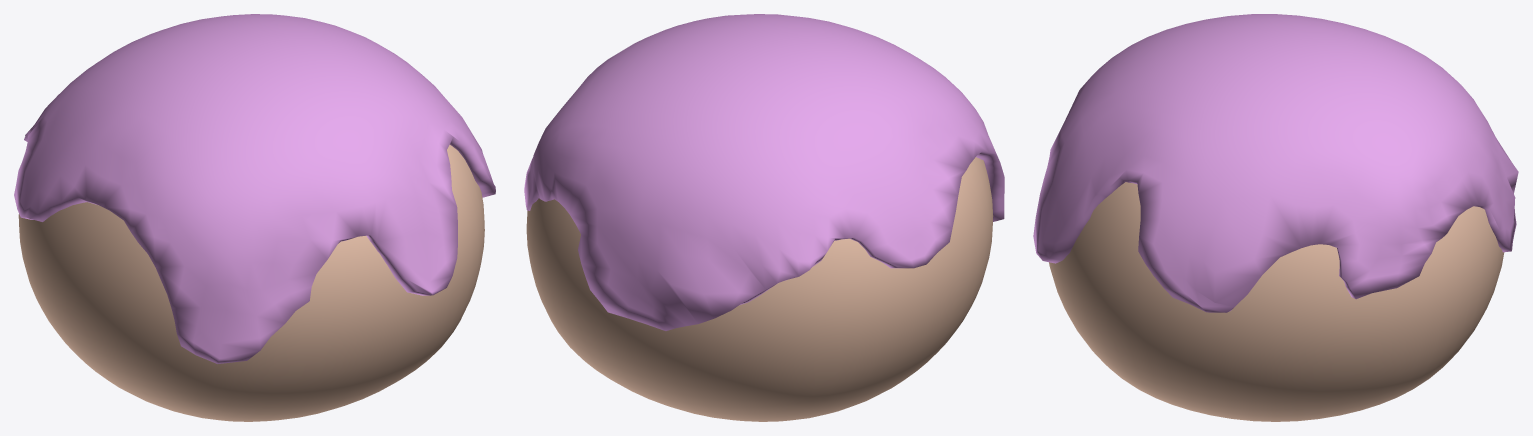
The model's file is purple clay.fbx.
3 views of the same model, side by side, from view 1: azimuth 30°, elevation 25°; view 2: azimuth 150°, elevation 25°; view 3: azimuth 270°, elevation 25° (orthographic).
Parts seen in each view (by area): view 1: orange clay; view 2: orange clay; view 3: orange clay.
Part boxes in pixels (<box>): orange clay: <box>14,14,495,421</box>; orange clay: <box>524,14,1004,421</box>; orange clay: <box>1033,14,1518,421</box>.
Bounding box in the file's own units: 92.47 × 74.29 × 93.34.
